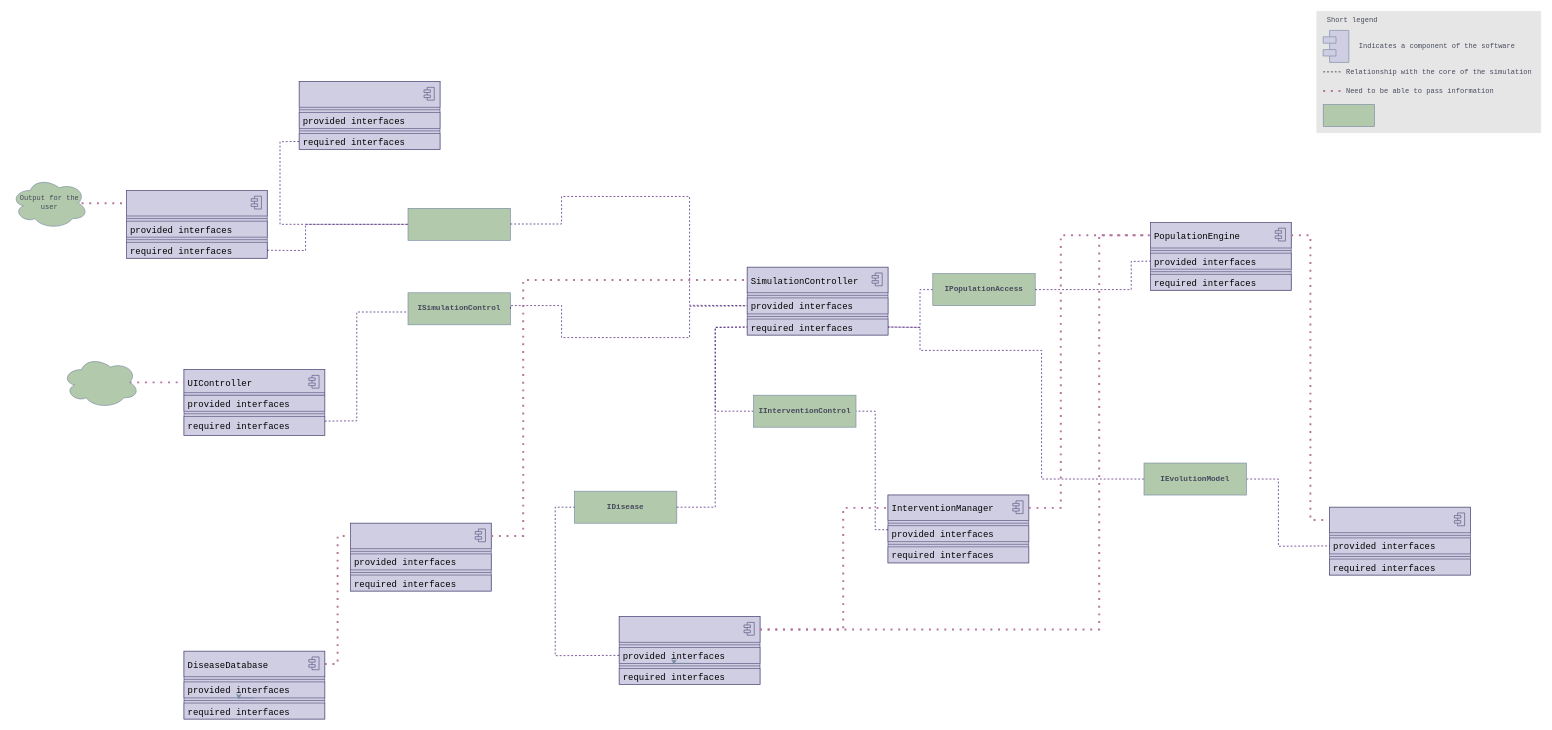
Some shapes in this 1552 by 730 pixel diagram are drawn without their labels. The centre of each missing label's shape, as x and y in pixels:
DataLogger: (369,94)
DiseaseEngine: (689,629)
EvolutionEngine: (1399,520)
ISimulationAccess: (458,224)
ScenarioLoader: (420,536)
UnityVisualisation: (196,203)
User input: (100,382)
«interface»: (1348,115)
